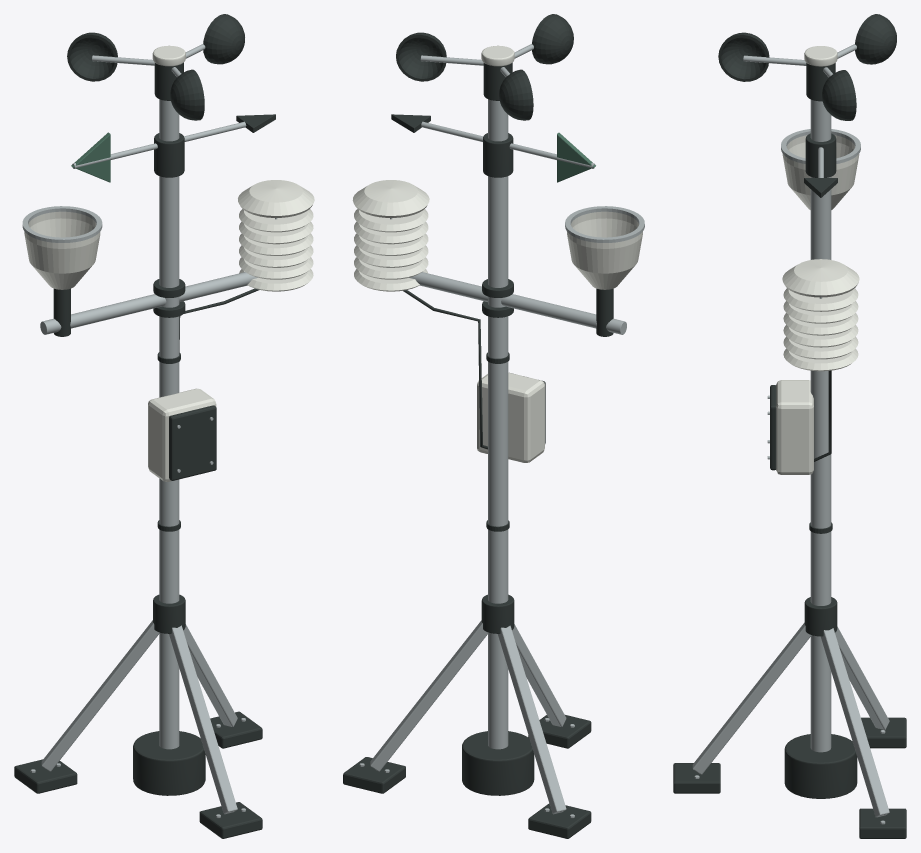
Rendered from city-weather-instrument-station.glb.
3 views of the same model, side by side, from view 1: azimuth 30°, elevation 25°; view 2: azimuth 150°, elevation 25°; view 3: azimuth 270°, elevation 25° (orthographic).
Parts seen in each view (by area): view 1: Assembly | Satin galvanized hardware, Assembly | Charcoal hardware, Assembly | Warm white instrument polymer, Assembly | Patinated roof green; view 2: Assembly | Satin galvanized hardware, Assembly | Charcoal hardware, Assembly | Warm white instrument polymer, Assembly | Patinated roof green; view 3: Assembly | Satin galvanized hardware, Assembly | Charcoal hardware, Assembly | Warm white instrument polymer.
Boxes of the visible parts, x1,y1,x2,y2 form: Assembly | Satin galvanized hardware: (22,44,277,818); Assembly | Charcoal hardware: (14,14,275,838); Assembly | Warm white instrument polymer: (24,45,314,481); Assembly | Patinated roof green: (71,132,110,182); Assembly | Satin galvanized hardware: (359,44,644,818); Assembly | Charcoal hardware: (343,14,613,838); Assembly | Warm white instrument polymer: (352,45,642,462); Assembly | Patinated roof green: (557,132,595,182); Assembly | Satin galvanized hardware: (692,44,889,824); Assembly | Charcoal hardware: (673,14,906,838); Assembly | Warm white instrument polymer: (776,46,859,474).
Size of the model in its own units: 0.896 by 2.25 by 0.64.
